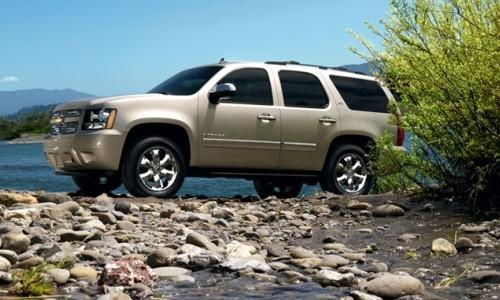Car: (29, 42, 417, 207)
